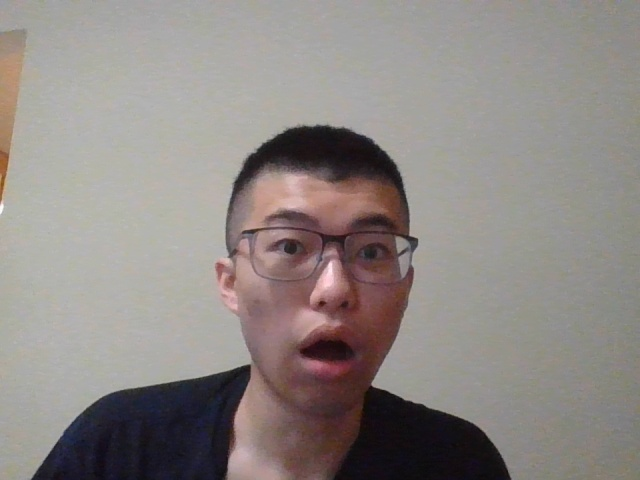fear: (213, 124, 420, 422)
